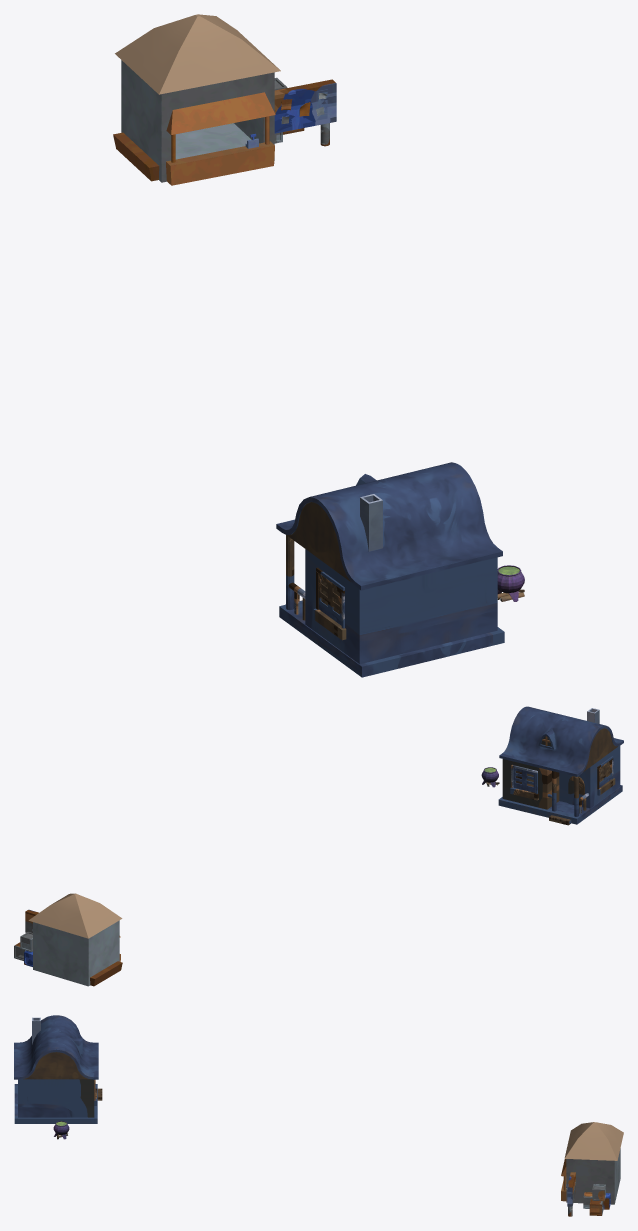
File: buildings_map (1).fbx
The picture shows the model from 3 angles, top to bottom: view 1: azimuth 30°, elevation 25°; view 2: azimuth 150°, elevation 25°; view 3: azimuth 270°, elevation 25°; orthographic projection. The views are drawn at different scales.
Visible parts, largest first — view 1: roof (×2), house_walls, fishstand_walls, house_base, countertop, countertop_cover, notice_board, roof_wall, chimney, flowerpot; view 2: roof (×2), fishstand_walls, house_walls, house_base, roof_wall, window_blinds; view 3: roof (×2), house_walls, fishstand_walls, roof_wall, house_base.
Part boxes in pixels (box(x1,y1,x2,y2)): roof (×2): box(115, 14, 502, 590); house_walls: box(305, 549, 497, 664); fishstand_walls: box(121, 60, 274, 182); house_base: box(279, 600, 504, 677); countertop: box(166, 141, 274, 185); countertop_cover: box(166, 92, 275, 134); notice_board: box(274, 79, 336, 133); roof_wall: box(287, 502, 350, 581); chimney: box(360, 494, 382, 551); flowerpot: box(113, 132, 159, 181); roof (×2): box(28, 706, 623, 938); fishstand_walls: box(33, 920, 119, 986); house_walls: box(502, 746, 620, 809); house_base: box(498, 785, 622, 824); roof_wall: box(583, 728, 617, 771); window_blinds: box(513, 767, 535, 792); roof (×2): box(14, 1015, 623, 1160); house_walls: box(18, 1079, 94, 1117); fishstand_walls: box(566, 1148, 620, 1204); roof_wall: box(23, 1052, 89, 1079); house_base: box(14, 1084, 97, 1123).
Bounding box in the file's own units: 18.54 × 5.19 × 36.86.
